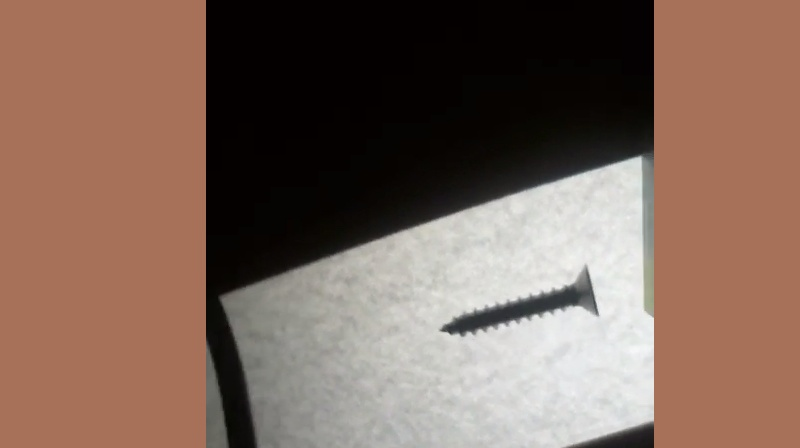S001: (436, 260, 604, 340)
